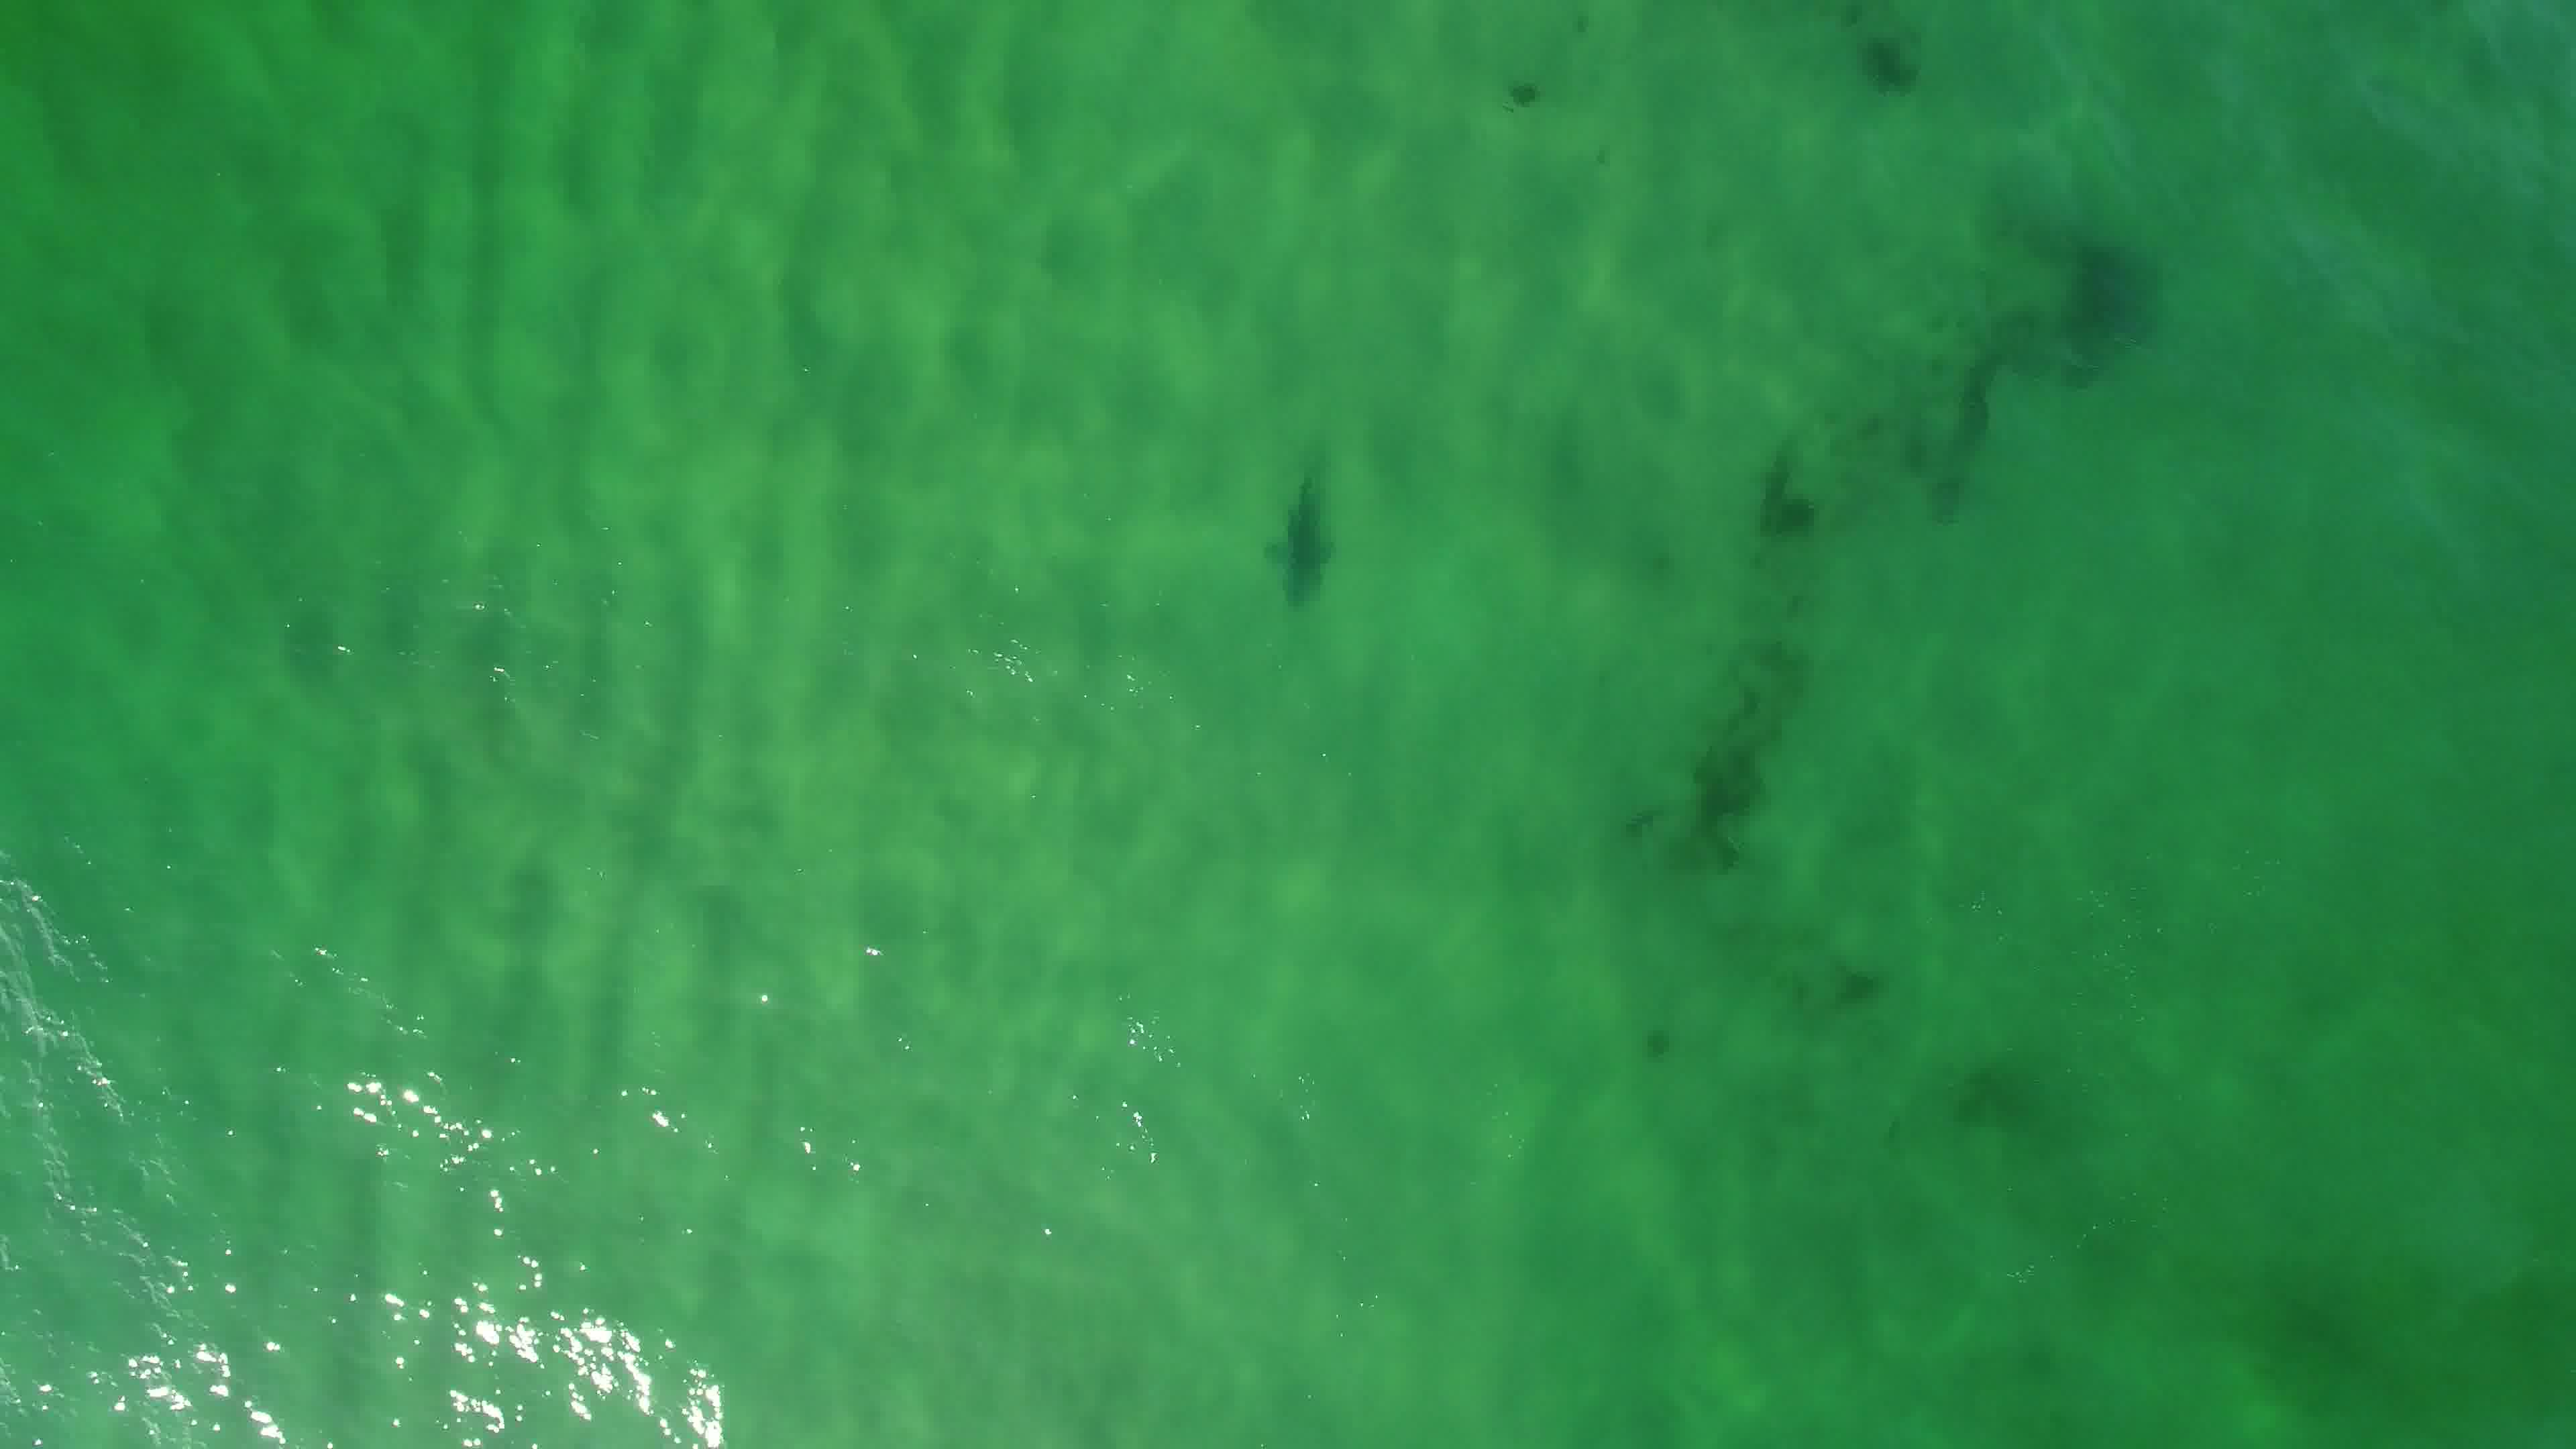shark: (1251, 487, 1343, 610)
